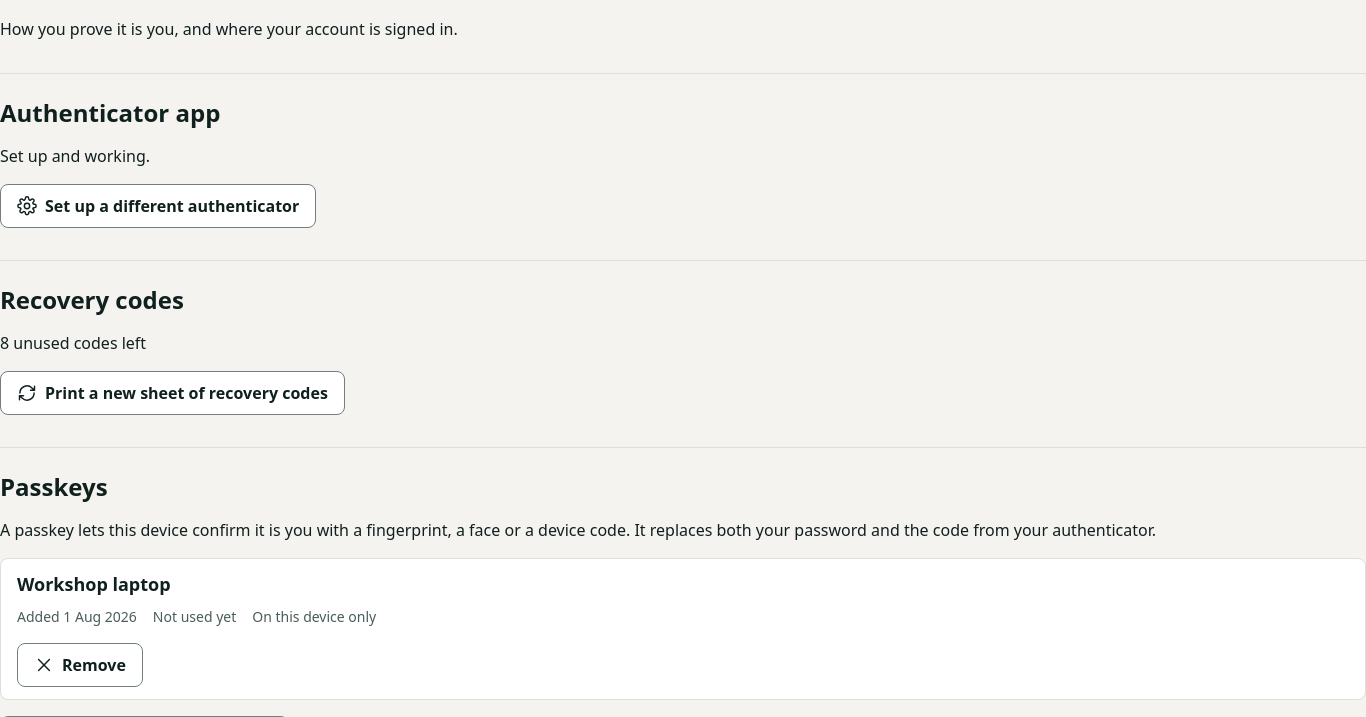
it: sign-in and security › confirms removing a passkey, and says the other factors are unaffected
Expected: the text "Workshop laptop" is shown, x1=17 y1=572 x2=171 y2=596
Click the button "Remove".
click(80, 665)  # box x1=17 y1=643 x2=143 y2=687
(page scrolled)
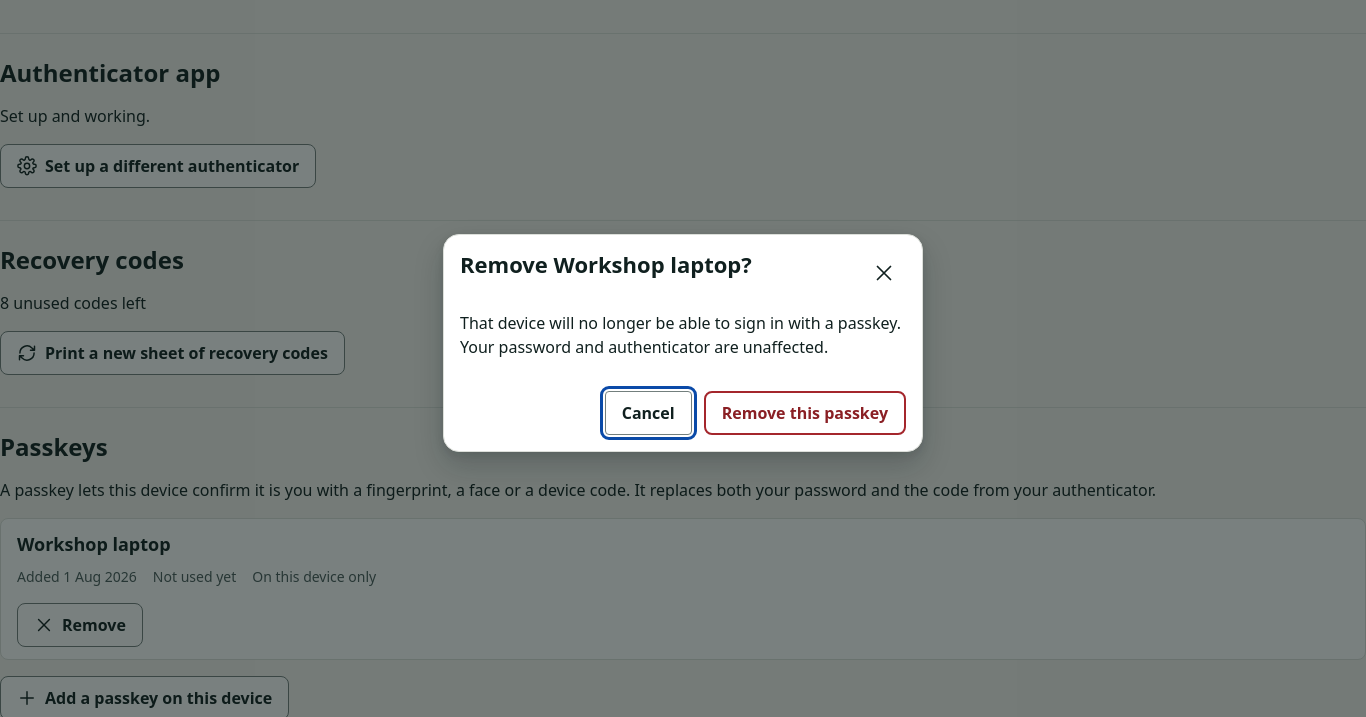
Expected: the dialog shows "Your password and authenticator are unaffected", x1=460 y1=312 x2=901 y2=358
Click the button "Remove this passkey".
click(805, 413)  # box x1=704 y1=391 x2=906 y2=435
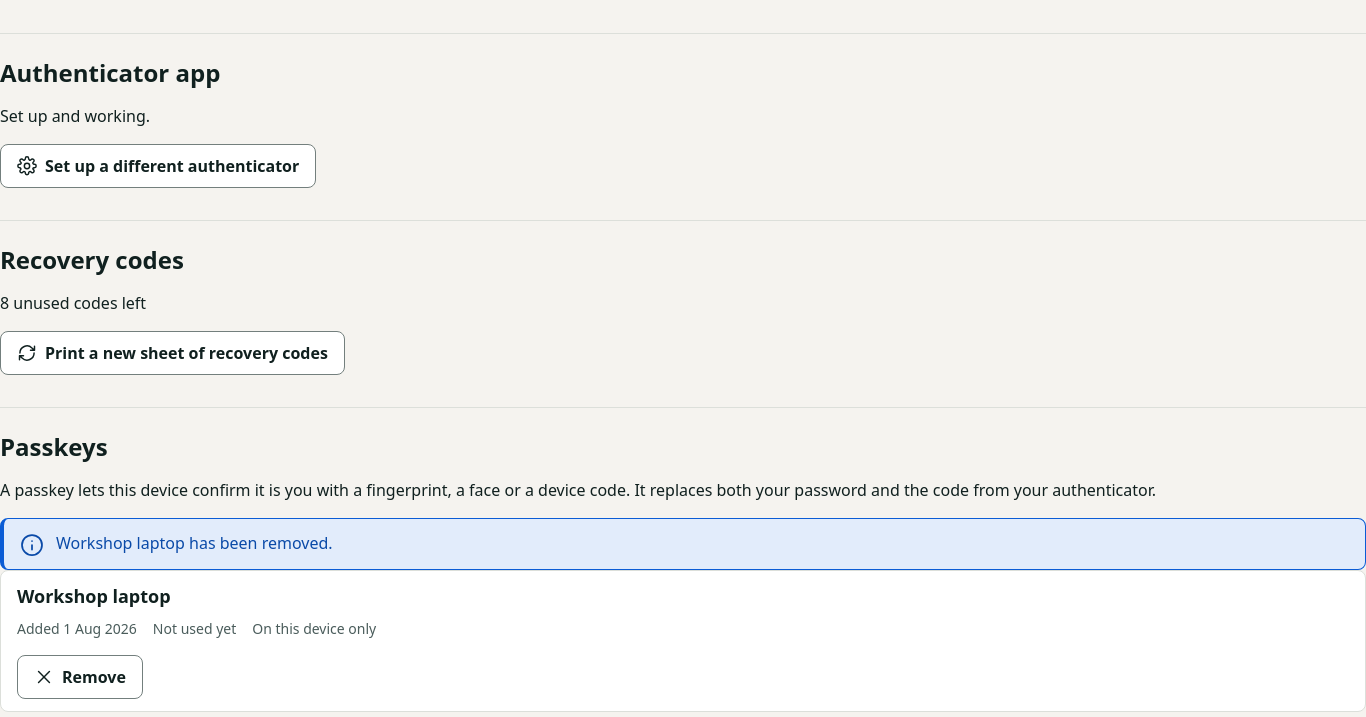
Expected: the text "Workshop laptop has been removed." is shown, x1=56 y1=532 x2=333 y2=554
